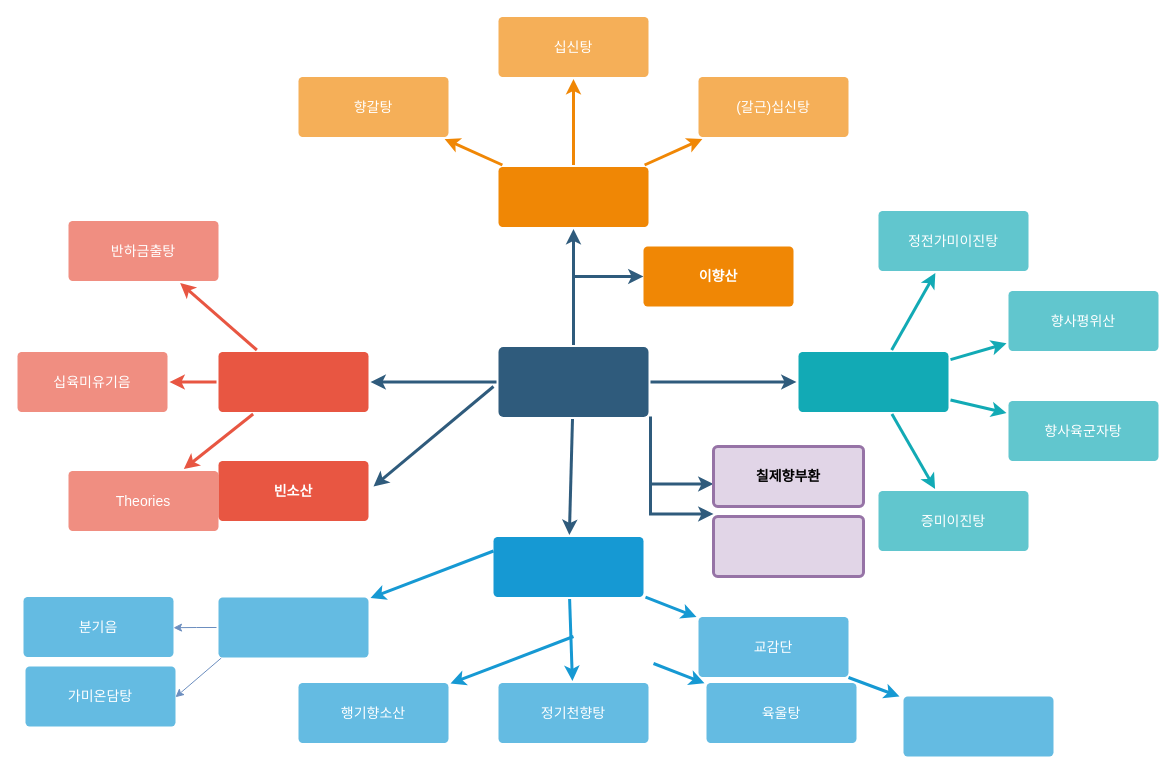
Some shapes in this 1175 by 774 pixel diagram are drawn without their labels. The centre of each missing label's shape, as x and y in pixels:
개결서경탕: the point at 293,382
궁지향소산: the point at 573,196
보화환: the point at 873,382
분신기음: the point at 293,627
사궁산: the point at 978,726
사제향부환: the point at 788,546
신계향소산: the point at 568,566
향소산: the point at 573,381
